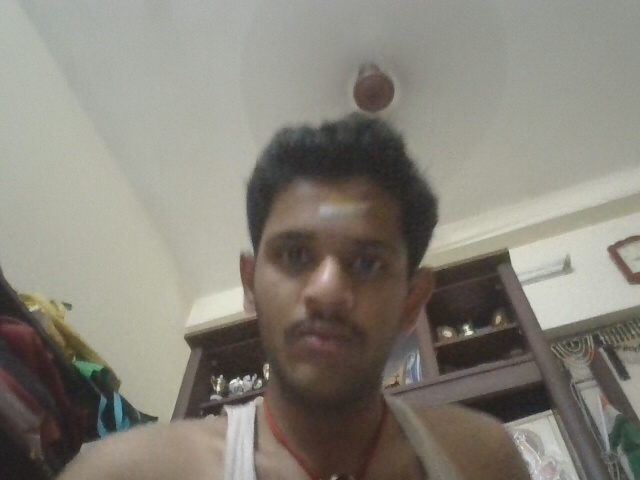real: (227, 177, 433, 383)
